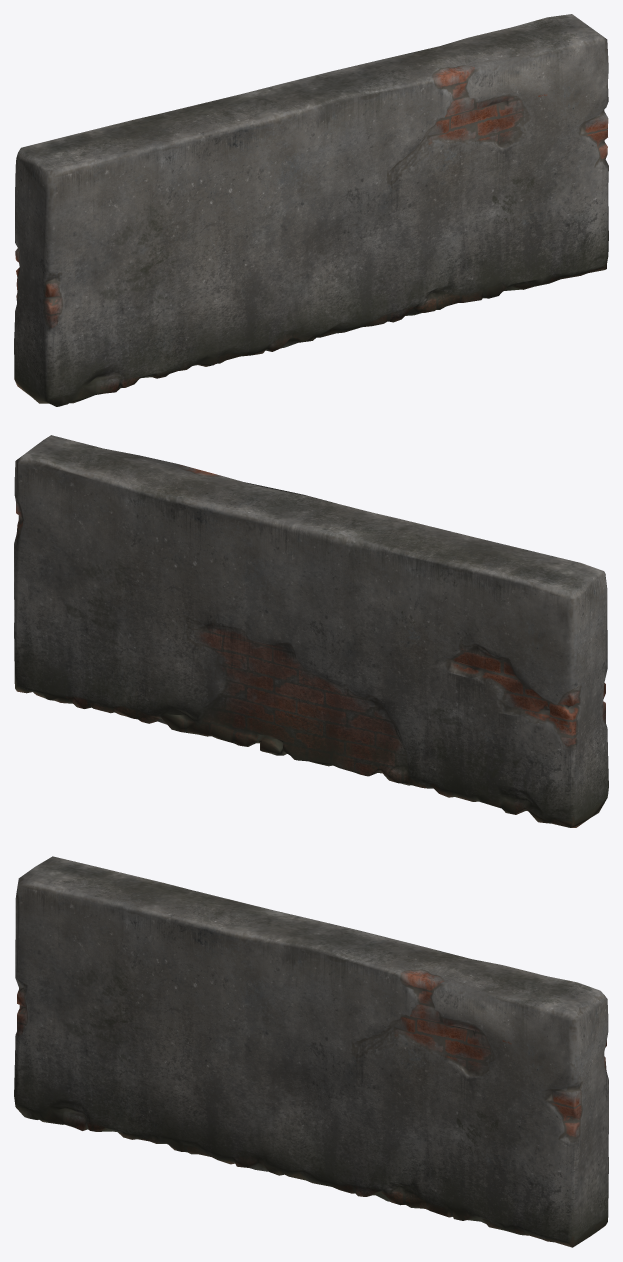
File: damaged_wall.glb
3 renders of one model, top to bottom at view 1: azimuth 30°, elevation 25°; view 2: azimuth 150°, elevation 25°; view 3: azimuth 330°, elevation 25°, orthographic.
Visible parts, largest first — view 1: Object_2; view 2: Object_2; view 3: Object_2.
Part boxes in pixels (bbox=[...]): Object_2: bbox=[14, 14, 608, 406]; Object_2: bbox=[14, 435, 608, 827]; Object_2: bbox=[14, 856, 608, 1247].
Size of the model in its own units: 200 by 82.14 by 24.57.
1 material, 1 textured.
